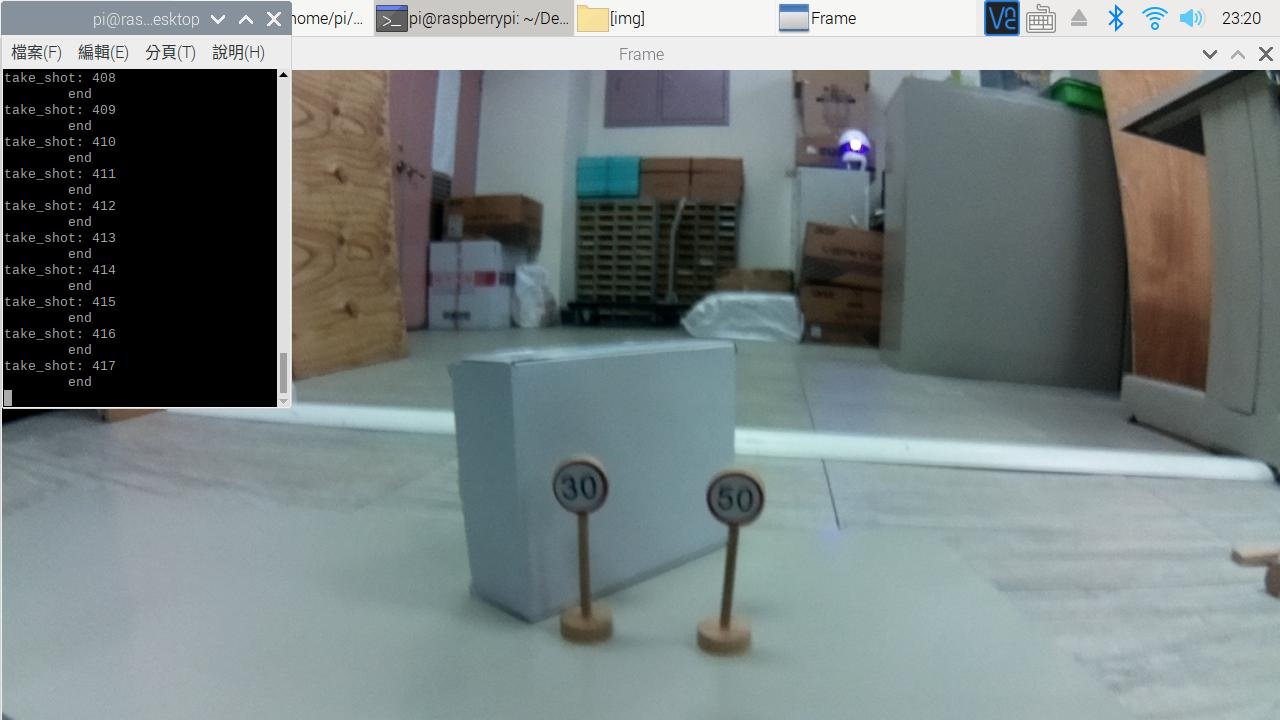Speed30: (537, 453, 630, 533)
Speed50: (687, 460, 783, 542)
